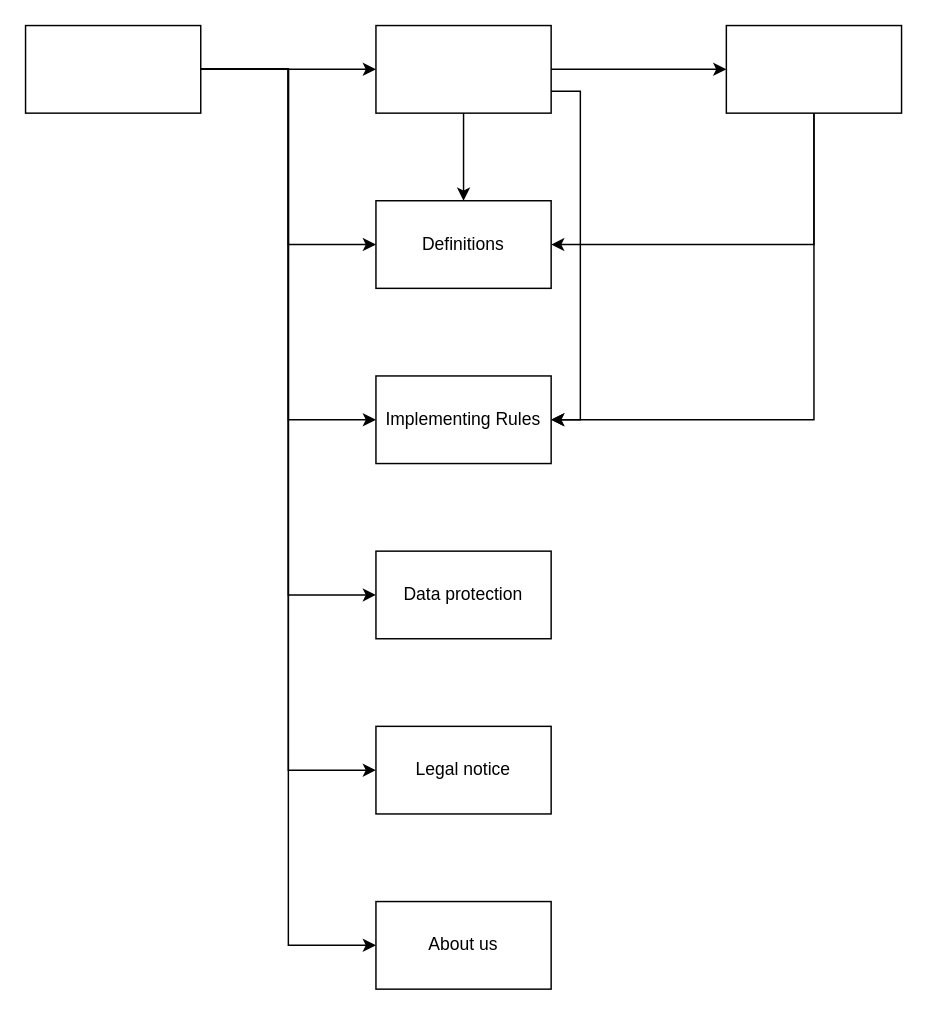
This 927x1015 diagram has some shape labels left out. Here are the shapes that lost their labels. From the top down, the centre of each, then its label:
the point at 112,68: Dashboard
the point at 462,68: Classifier Introduction
the point at 813,68: Classifier
